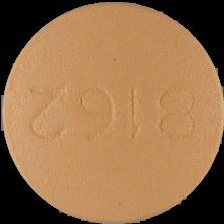61786-788: (0, 0, 224, 224)
